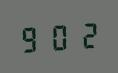nine: (18, 22, 44, 53)
two: (73, 19, 99, 50)
zero: (46, 20, 72, 52)
